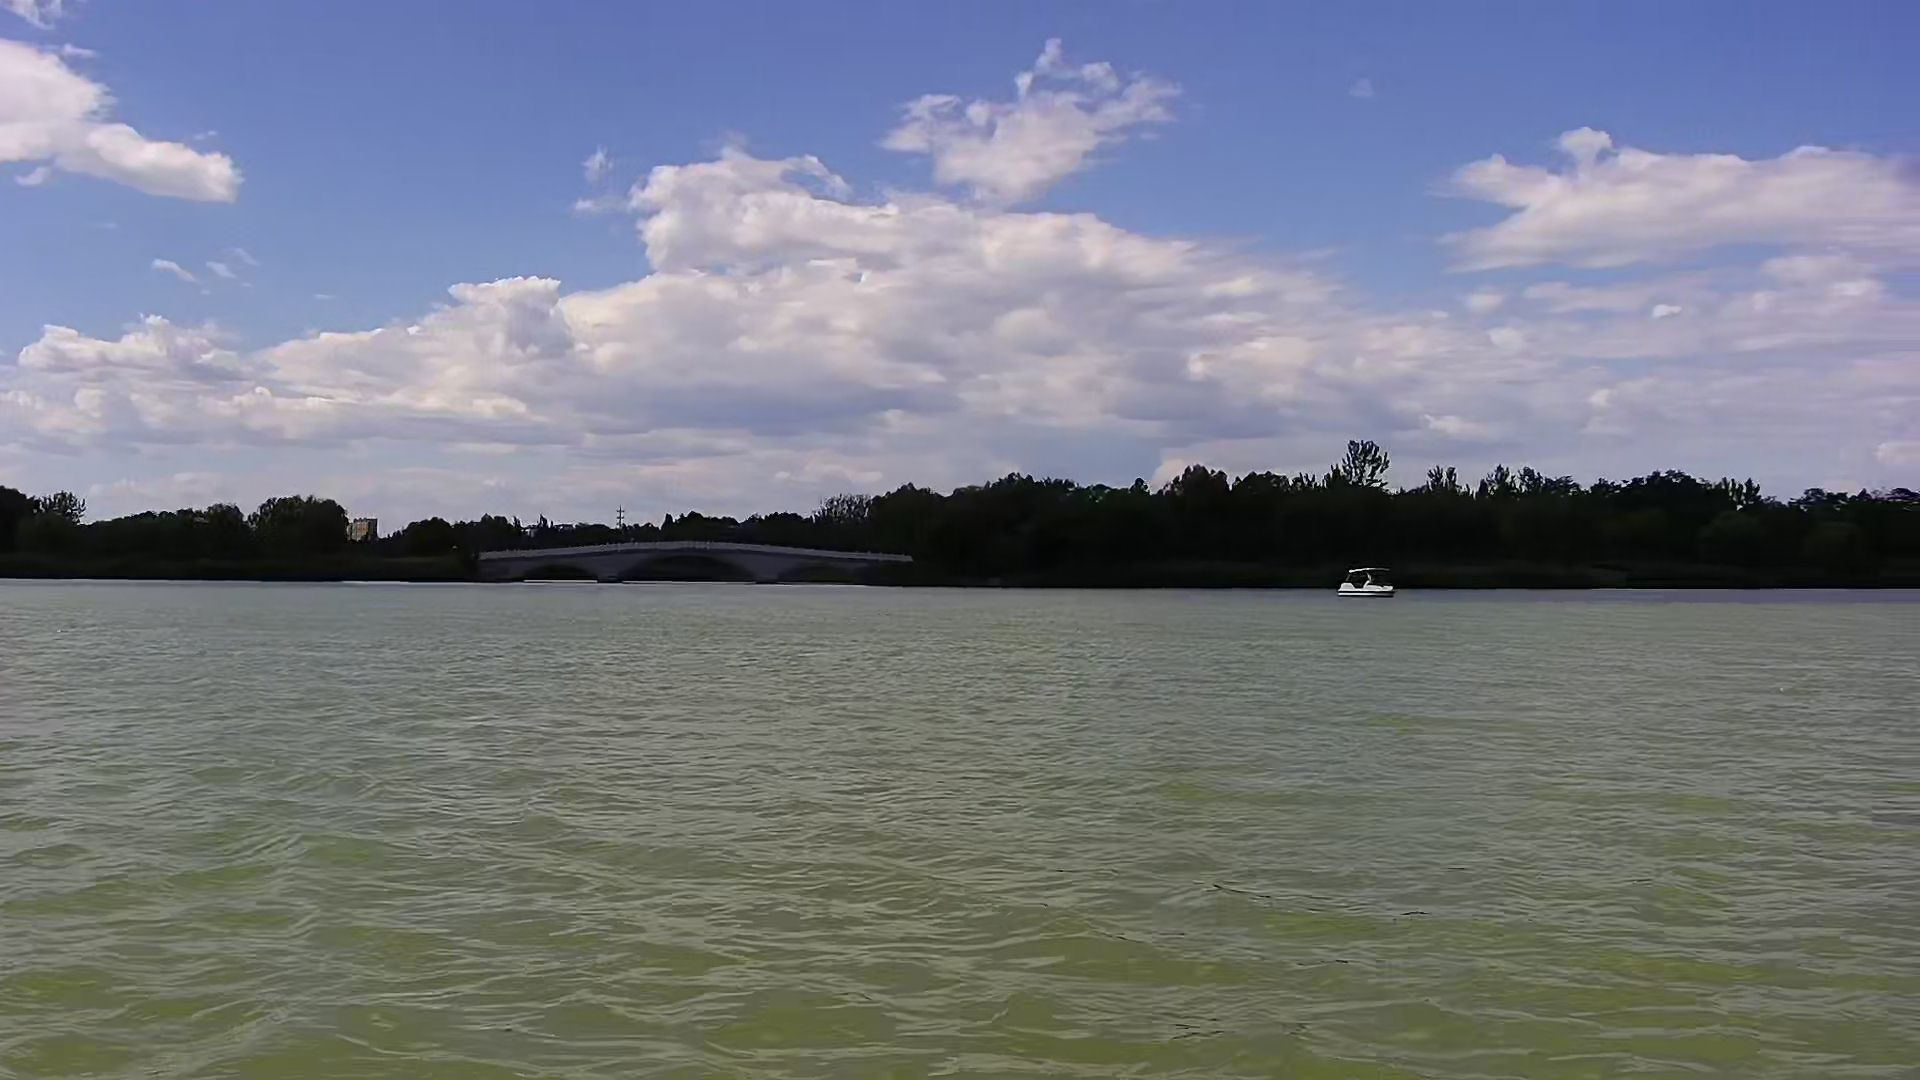boat: (1335, 560, 1402, 607)
bridge: (473, 538, 914, 588)
